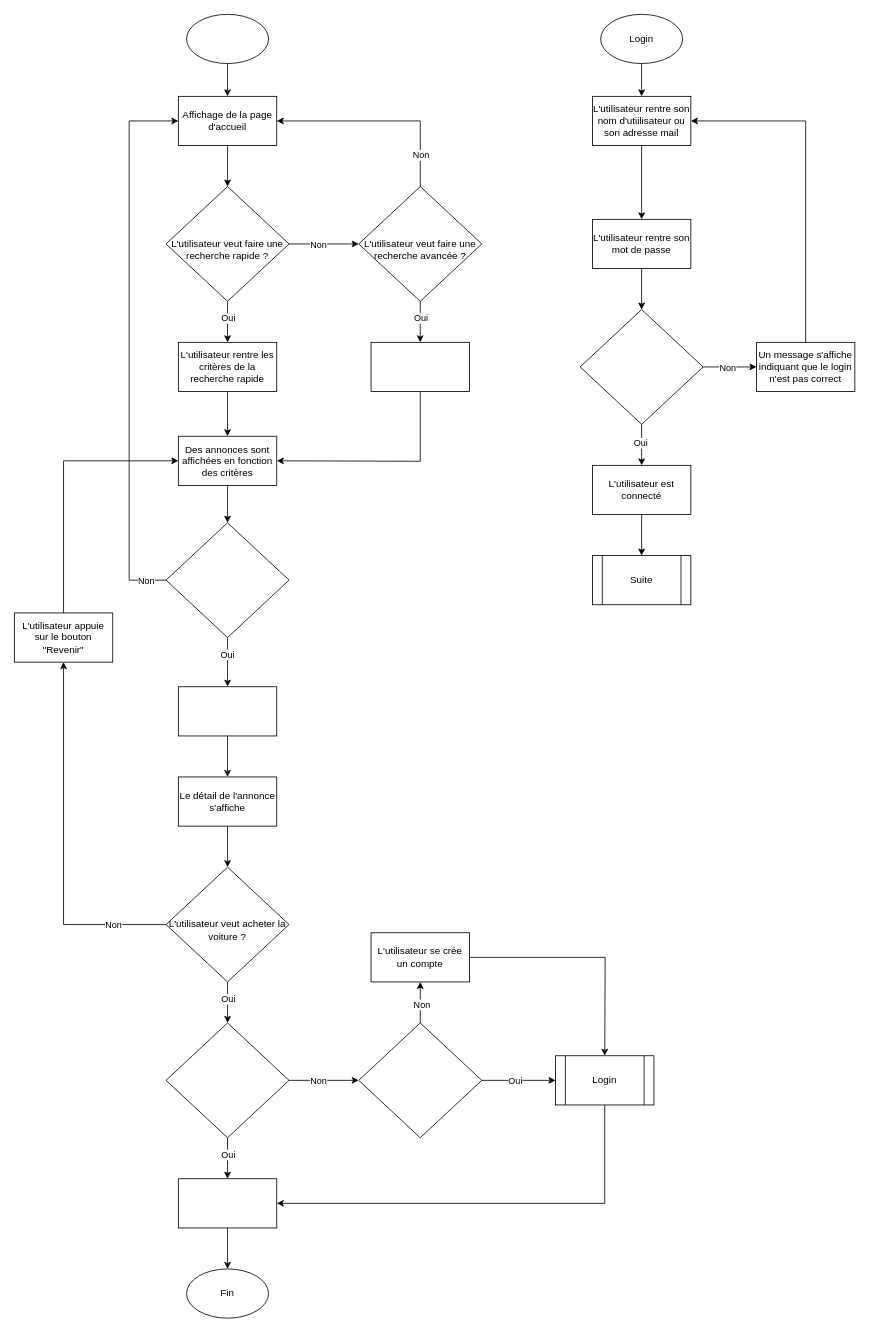
This 869x1333 diagram has some shape labels left out. Here are the shapes that lost their labels. From the top down, the box of each, then its label:
(186, 14, 269, 64): Début
(370, 342, 469, 392): L'utilisateur rentre les critères de la recherche avancée
(579, 309, 703, 424): Le login est correct ?
(165, 522, 289, 638): Les critères conviennent à l'utilisateur ?
(178, 686, 277, 736): L'utilisateur clique sur une annonce
(165, 1022, 289, 1138): L'utilisateur est connecté ?
(358, 1022, 482, 1138): L'utilisateur a déjà un compte ?
(178, 1178, 277, 1228): L'utilisateur voit l'adresse mail du vendeur et peut le contacter
